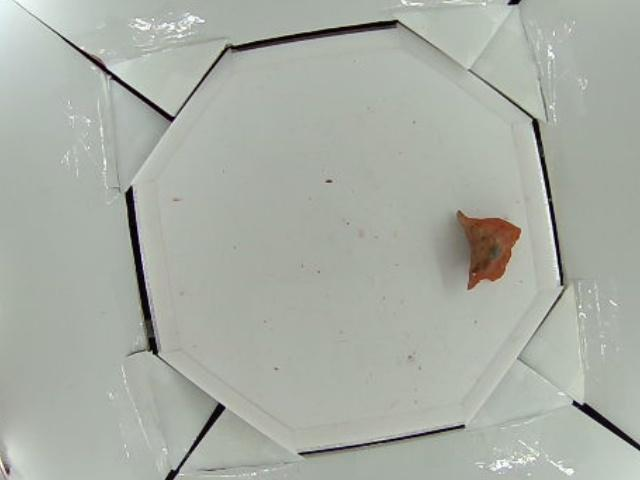Brisk: (456, 209, 522, 286)
